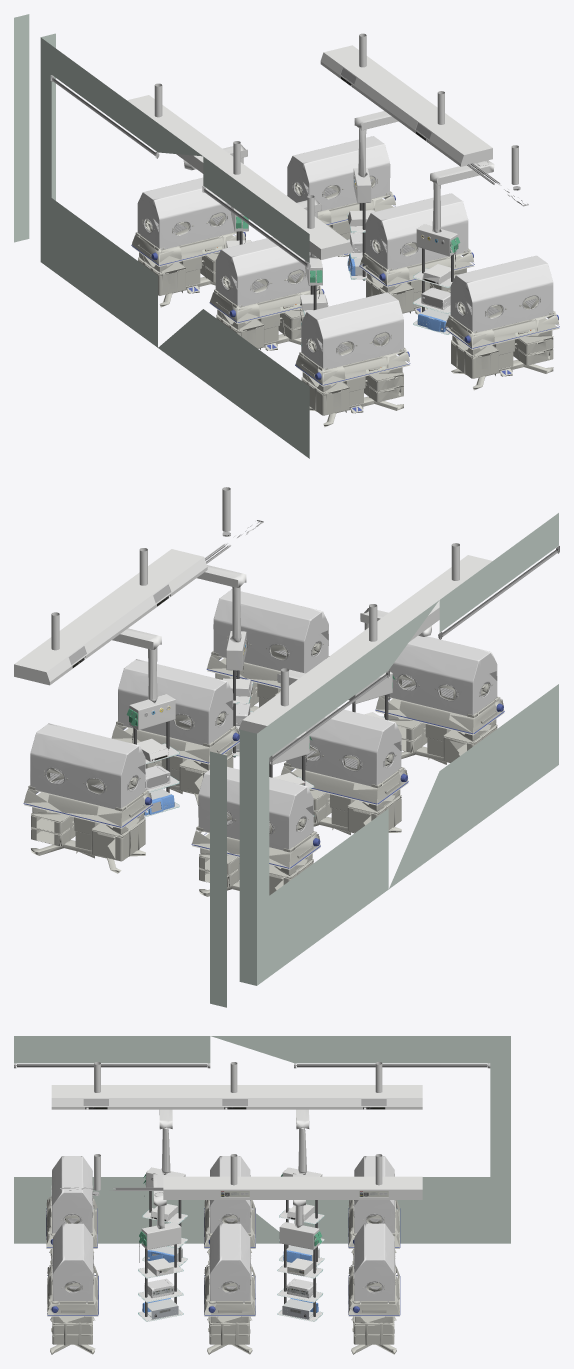
The model's file is lab_furniture.glb.
3 views of the same model, one above another, from view 1: azimuth 30°, elevation 25°; view 2: azimuth 150°, elevation 25°; view 3: azimuth 270°, elevation 25° (orthographic). The views are drawn at different scales.
Parts seen in each view (by area): view 1: lab_Mat3d66_617138_55_96, lab_Mat3d66_617138_46_742, lab_Mat3d66_617138_45_963, lab_Standard_6, lab_Mat3d66_617138_15_574, lab_Mat3d66_617138_43_524, lab_Mat3d66_617138_41_928, lab_Mat3d66_617138_59_607, lab_Mat3d66_617138_42_691, lab_Mat3d66_617138_19_988, lab_Mat3d66_617138_25_44, lab_Material_38; view 2: lab_Mat3d66_617138_55_96, lab_Mat3d66_617138_46_742, lab_Mat3d66_617138_45_963, lab_Standard_6, lab_Mat3d66_617138_15_574, lab_Mat3d66_617138_43_524, lab_Mat3d66_617138_59_607, lab_Mat3d66_617138_41_928, lab_Mat3d66_617138_42_691, lab_Mat3d66_617138_19_988, lab_Material_38; view 3: lab_Mat3d66_617138_55_96, lab_Standard_6, lab_Mat3d66_617138_46_742, lab_Mat3d66_617138_45_963, lab_Mat3d66_617138_15_574, lab_Mat3d66_617138_59_607, lab_Mat3d66_617138_19_988, lab_Mat3d66_617138_30_9, lab_Mat3d66_617138_43_524, lab_Mat3d66_617138_25_44, lab_Mat3d66_617138_29_336, lab_Mat3d66_617138_41_928 (+3 smaller).
Part boxes in pixels (x1,y1,x2,y2): lab_Mat3d66_617138_55_96: (14,14,309,458); lab_Mat3d66_617138_46_742: (137,136,553,369); lab_Mat3d66_617138_45_963: (132,176,559,427); lab_Standard_6: (127,45,492,310); lab_Mat3d66_617138_15_574: (154,33,518,334); lab_Mat3d66_617138_43_524: (131,195,559,411); lab_Mat3d66_617138_41_928: (142,175,540,355); lab_Mat3d66_617138_59_607: (52,77,307,266); lab_Mat3d66_617138_42_691: (146,179,537,352); lab_Mat3d66_617138_19_988: (236,203,453,312); lab_Mat3d66_617138_25_44: (350,232,450,309); lab_Material_38: (340,68,520,307); lab_Mat3d66_617138_55_96: (210,513,558,1007); lab_Mat3d66_617138_46_742: (30,589,497,850); lab_Mat3d66_617138_45_963: (24,636,504,896); lab_Standard_6: (14,549,492,785); lab_Mat3d66_617138_15_574: (51,487,459,817); lab_Mat3d66_617138_43_524: (23,658,504,868); lab_Mat3d66_617138_59_607: (272,548,557,761); lab_Mat3d66_617138_41_928: (45,638,491,835); lab_Mat3d66_617138_42_691: (47,645,487,832); lab_Mat3d66_617138_19_988: (133,670,388,792); lab_Material_38: (68,532,250,812); lab_Mat3d66_617138_55_96: (14,1036,510,1243); lab_Standard_6: (51,1085,422,1276); lab_Mat3d66_617138_46_742: (52,1156,394,1302); lab_Mat3d66_617138_45_963: (46,1188,399,1354); lab_Mat3d66_617138_15_574: (94,1062,382,1321); lab_Mat3d66_617138_59_607: (17,1064,487,1067); lab_Mat3d66_617138_19_988: (145,1191,317,1316); lab_Mat3d66_617138_30_9: (147,1245,319,1319); lab_Mat3d66_617138_43_524: (46,1208,400,1315); lab_Mat3d66_617138_25_44: (144,1225,316,1298); lab_Mat3d66_617138_29_336: (142,1250,318,1312); lab_Mat3d66_617138_41_928: (51,1185,395,1293).
Bounding box in the file's own units: 3.54 × 2.8 × 6.68.
Materials: 37 (6 with a texture image).
